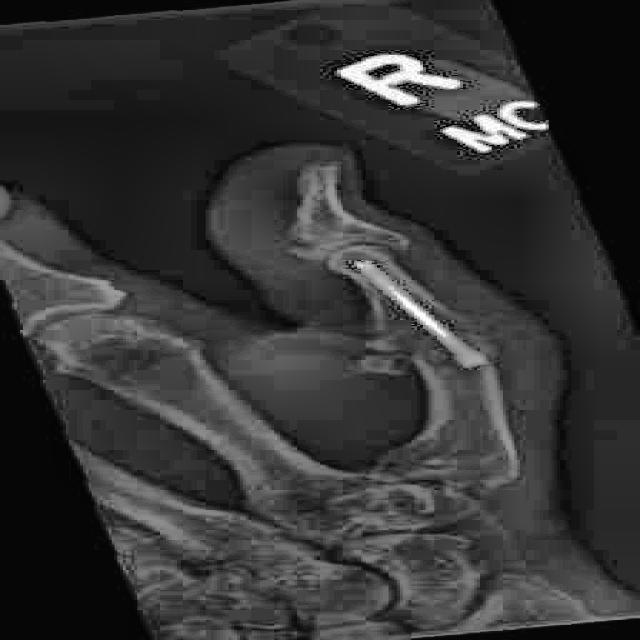fingers positive: (340, 304, 551, 391), (263, 215, 395, 270)
